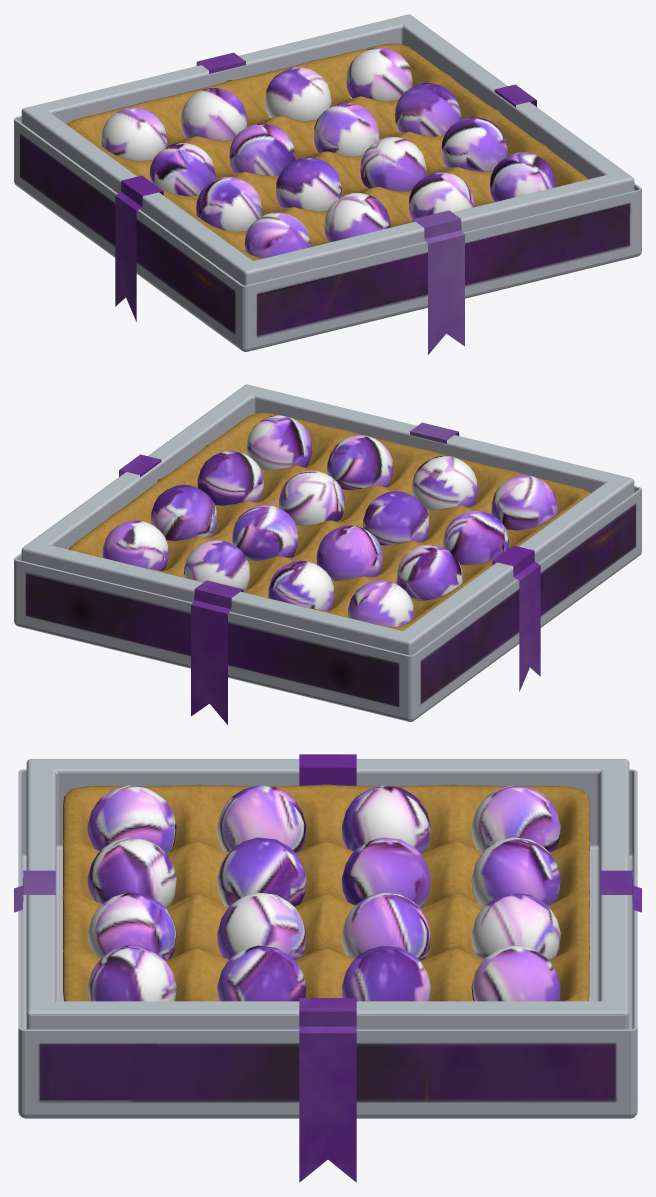
Rendered from Poisonous Chocolate Box.fbx.
3 renders of one model, top to bottom at view 1: azimuth 30°, elevation 25°; view 2: azimuth 150°, elevation 25°; view 3: azimuth 270°, elevation 25°, orthographic. The views are drawn at different scales.
Visible parts, largest first — view 1: sweet box 01; view 2: sweet box 01; view 3: sweet box 01.
Boxes of the visible parts, x1,y1,x2,y2 form: sweet box 01: [14, 14, 641, 354]; sweet box 01: [14, 384, 641, 724]; sweet box 01: [14, 754, 641, 1182].
Bounding box in the file's own units: 29.96 × 9.44 × 29.96.
1 material, 1 textured.
